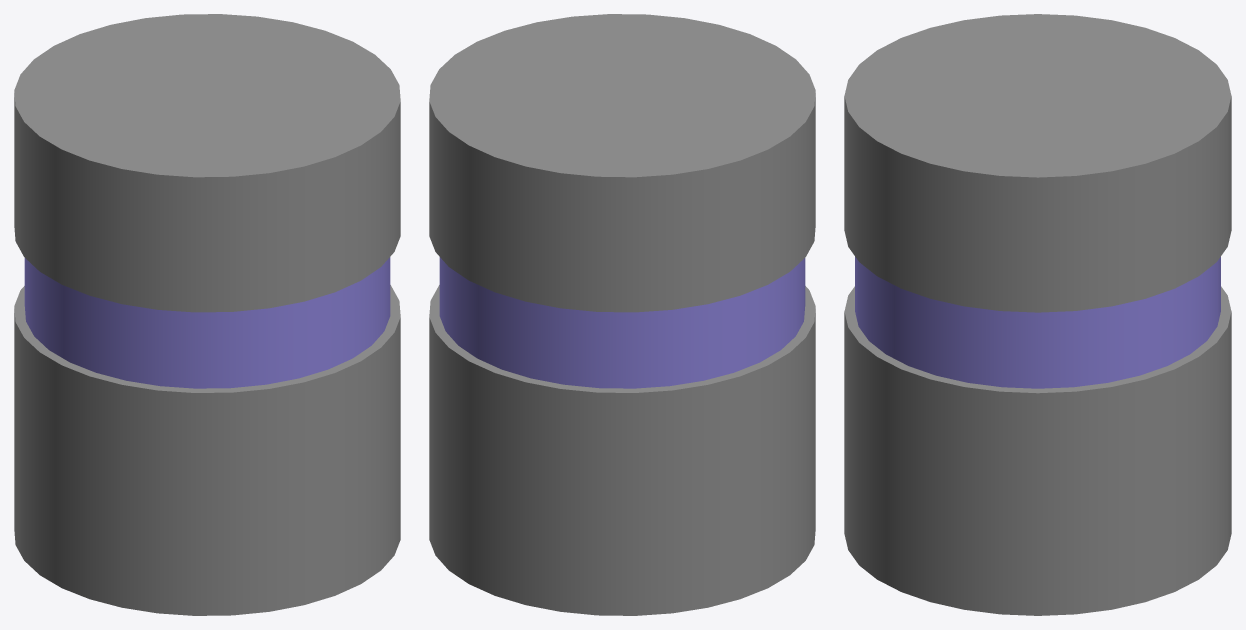
File: Stage005.fbx
3 views of the same model, side by side, from view 1: azimuth 30°, elevation 25°; view 2: azimuth 150°, elevation 25°; view 3: azimuth 270°, elevation 25° (orthographic).
Parts seen in each view (by area): view 1: 円柱; view 2: 円柱; view 3: 円柱.
Part boxes in pixels (x1,y1,x2,y2): 円柱: [14, 14, 400, 615]; 円柱: [429, 14, 815, 615]; 円柱: [844, 14, 1231, 615].
Size of the model in its own units: 400 by 500 by 400.
